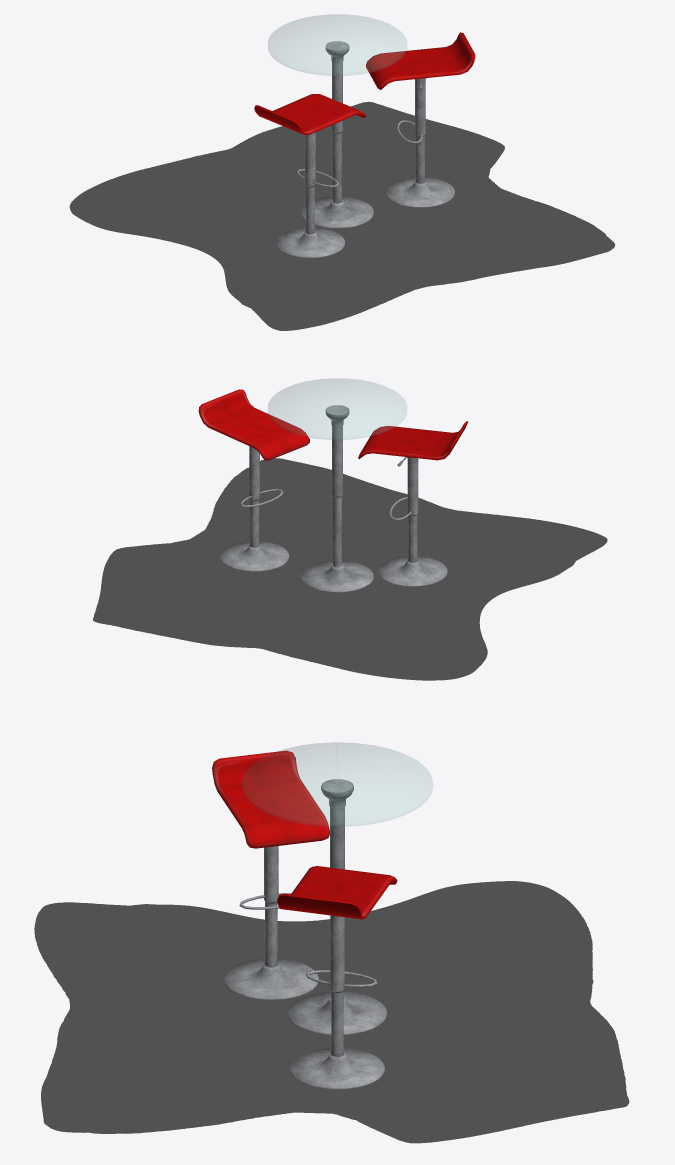
Rendered from bar_high.glb.
3 renders of one model, top to bottom at view 1: azimuth 30°, elevation 25°; view 2: azimuth 150°, elevation 25°; view 3: azimuth 270°, elevation 25°, orthographic. The views are drawn at different scales.
Parts seen in each view (by area): view 1: Plane, table_bar, chair_bar.002, chair_bar.002_1, chair_bar.002_0; view 2: Plane, table_bar, chair_bar.002, chair_bar.002_1, chair_bar.002_0; view 3: Plane, table_bar, chair_bar.002, chair_bar.002_0, chair_bar.002_1.
Boxes of the visible parts, x1,y1,x2,y2 form: Plane: [69, 101, 615, 330]; table_bar: [268, 14, 406, 228]; chair_bar.002: [254, 94, 365, 257]; chair_bar.002_1: [366, 32, 475, 89]; chair_bar.002_0: [385, 78, 454, 207]; Plane: [93, 458, 607, 680]; table_bar: [268, 378, 406, 592]; chair_bar.002: [358, 421, 467, 586]; chair_bar.002_1: [198, 389, 309, 460]; chair_bar.002_0: [220, 446, 289, 571]; Plane: [34, 881, 629, 1143]; table_bar: [242, 742, 432, 1034]; chair_bar.002: [212, 750, 329, 999]; chair_bar.002_0: [290, 915, 384, 1089]; chair_bar.002_1: [277, 866, 397, 919].
Size of the model in its own units: 2.53 by 1 by 2.53.
5 materials, 4 textured.
